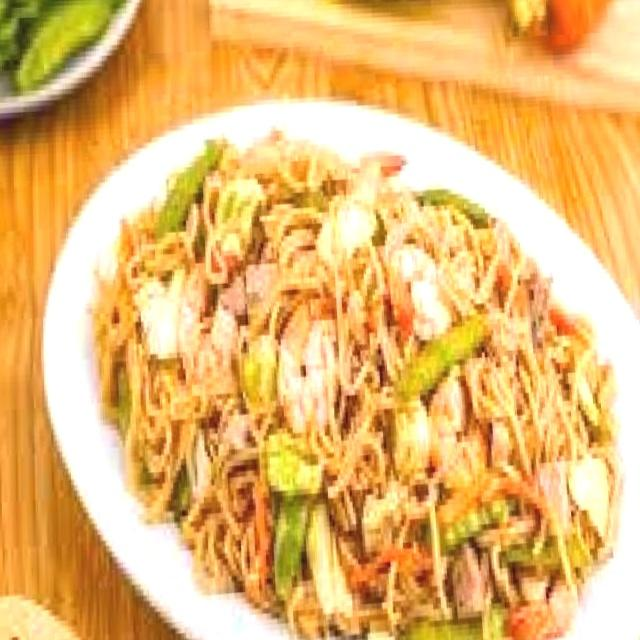pancit bihon: (84, 135, 615, 639)
